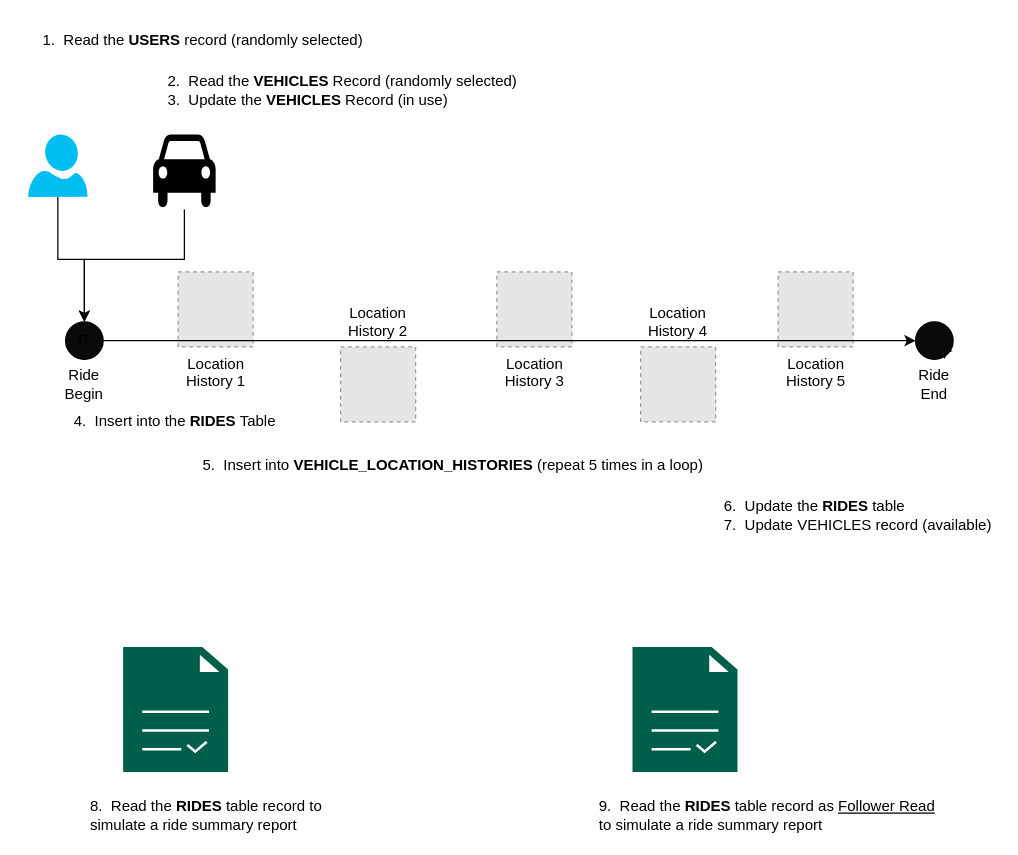
Image size: 1018x855. Some labels were removed from this diagram. Grey dashed boxes stand in for pictures. The centre of each missing label's shape, as x and y in pixels:
"User" goes at point 57,165.
"Vehicle" goes at point 183,171.
